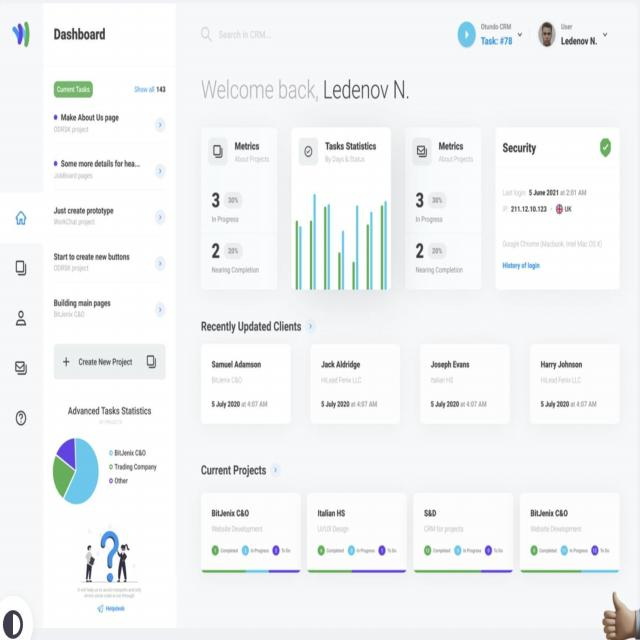button: (52, 344, 166, 381), (53, 79, 94, 99)
input: (195, 20, 297, 47)
